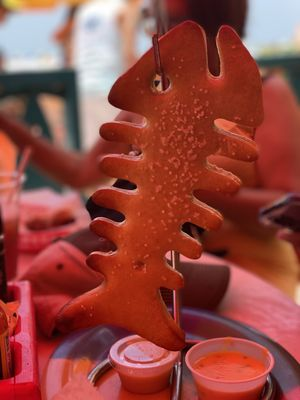sushi: (184, 336, 275, 400), (108, 334, 181, 395)
